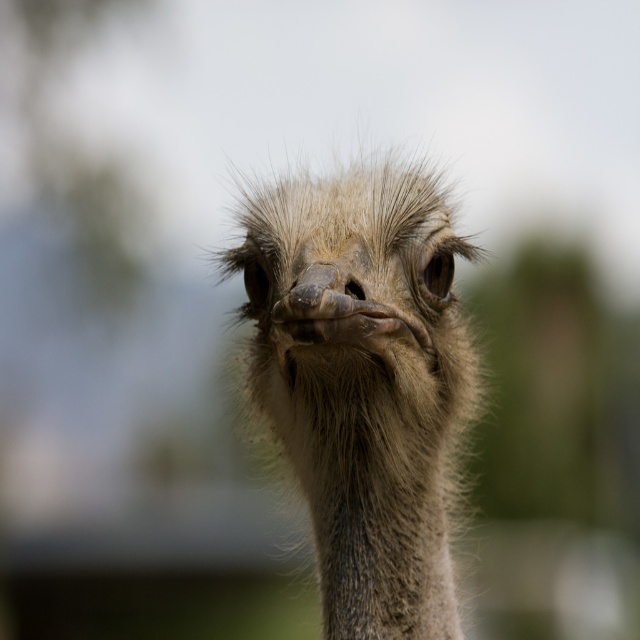Ostrich: (200, 151, 493, 639)
